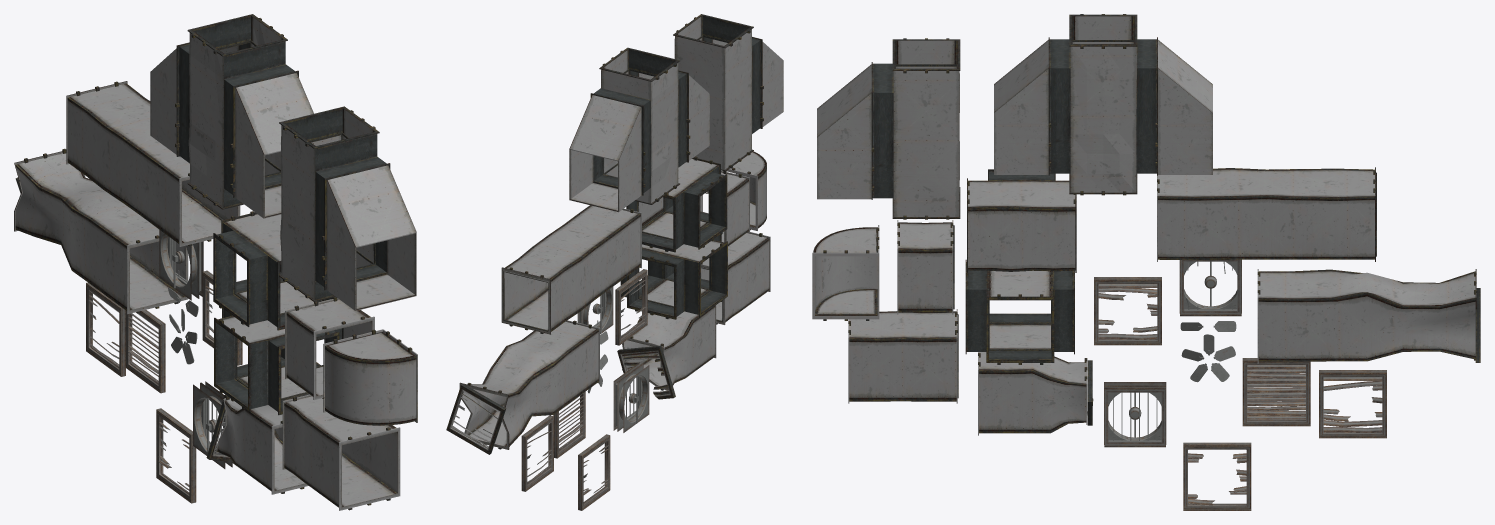
File: Vent-system1.fbx
3 views of the same model, side by side, from view 1: azimuth 30°, elevation 25°; view 2: azimuth 150°, elevation 25°; view 3: azimuth 270°, elevation 25° (orthographic). The views are drawn at different scales.
Parts seen in each view (by area): view 1: S1jump_vent2, S1jump_vent1, S1vent2, S1vent1, S1vent4, S1corner_vent1, S1vent3, S1wat_vent1, S1vent5, S1vent6, S1grate_vent4, S1fan_vent2 (+5 smaller); view 2: S1jump_vent1, S1vent1, S1vent2, S1jump_vent2, S1wat_vent1, S1vent3, S1vent5, S1vent4, S1fan_vent1, S1vent6, S1corner_vent1, S1grate_vent2 (+4 smaller); view 3: S1jump_vent1, S1jump_vent2, S1vent1, S1vent2, S1vent3, S1vent4, S1wat_vent1, S1vent5, S1corner_vent1, S1vent6, S1grate_vent4, S1grate_vent2 (+5 smaller).
Part boxes in pixels (x1=…): S1jump_vent2: x1=279, y1=106, x2=416, y2=310; S1jump_vent1: x1=150, y1=14, x2=313, y2=218; S1vent2: x1=14, y1=148, x2=188, y2=314; S1vent1: x1=66, y1=81, x2=240, y2=246; S1vent4: x1=282, y1=394, x2=400, y2=510; S1corner_vent1: x1=323, y1=329, x2=417, y2=425; S1vent3: x1=213, y1=211, x2=332, y2=330; S1wat_vent1: x1=214, y1=308, x2=341, y2=415; S1vent5: x1=206, y1=394, x2=308, y2=494; S1vent6: x1=285, y1=297, x2=374, y2=399; S1grate_vent4: x1=125, y1=310, x2=165, y2=393; S1fan_vent2: x1=159, y1=230, x2=203, y2=300; S1jump_vent1: x1=569, y1=47, x2=709, y2=212; S1vent1: x1=501, y1=205, x2=641, y2=334; S1vent2: x1=446, y1=320, x2=599, y2=454; S1jump_vent2: x1=673, y1=14, x2=783, y2=171; S1wat_vent1: x1=620, y1=234, x2=727, y2=319; S1vent3: x1=626, y1=156, x2=727, y2=252; S1vent5: x1=617, y1=305, x2=716, y2=399; S1vent4: x1=701, y1=232, x2=770, y2=324; S1fan_vent1: x1=613, y1=362, x2=649, y2=432; S1vent6: x1=700, y1=170, x2=749, y2=246; S1corner_vent1: x1=727, y1=151, x2=766, y2=230; S1grate_vent2: x1=521, y1=415, x2=553, y2=491; S1jump_vent1: x1=994, y1=14, x2=1212, y2=195; S1jump_vent2: x1=817, y1=38, x2=960, y2=219; S1vent1: x1=1157, y1=167, x2=1376, y2=261; S1vent2: x1=1257, y1=269, x2=1480, y2=363; S1vent3: x1=967, y1=169, x2=1076, y2=272; S1vent4: x1=848, y1=309, x2=958, y2=403; S1wat_vent1: x1=965, y1=259, x2=1074, y2=364; S1vent5: x1=978, y1=352, x2=1093, y2=435; S1corner_vent1: x1=812, y1=225, x2=879, y2=320; S1vent6: x1=897, y1=220, x2=954, y2=314; S1grate_vent4: x1=1242, y1=358, x2=1310, y2=426; S1grate_vent2: x1=1319, y1=370, x2=1386, y2=438.
Bounding box in the file's own units: 200 × 969 × 1221.
